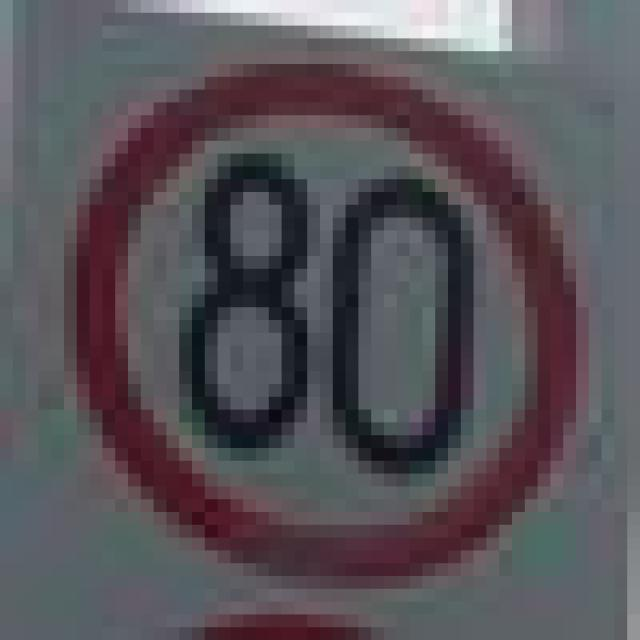speed_limit_50: (64, 51, 576, 576)
